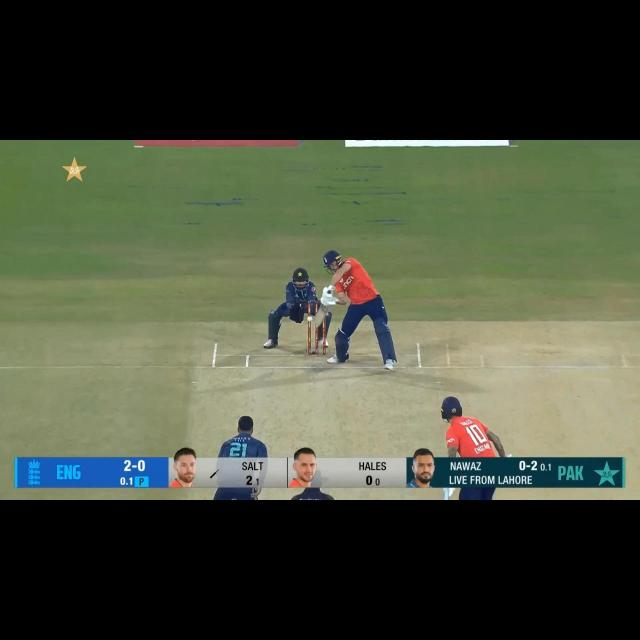bat: (312, 299, 330, 329)
toe: (314, 316, 324, 326)
